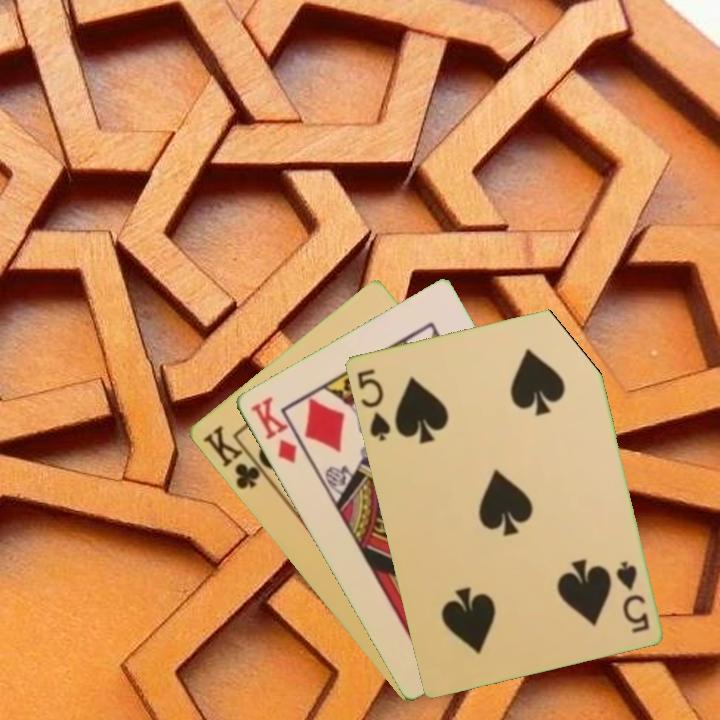5s: (353, 365, 393, 444), (612, 557, 652, 636)
Kc: (198, 421, 271, 493)
Kd: (246, 393, 299, 466)
